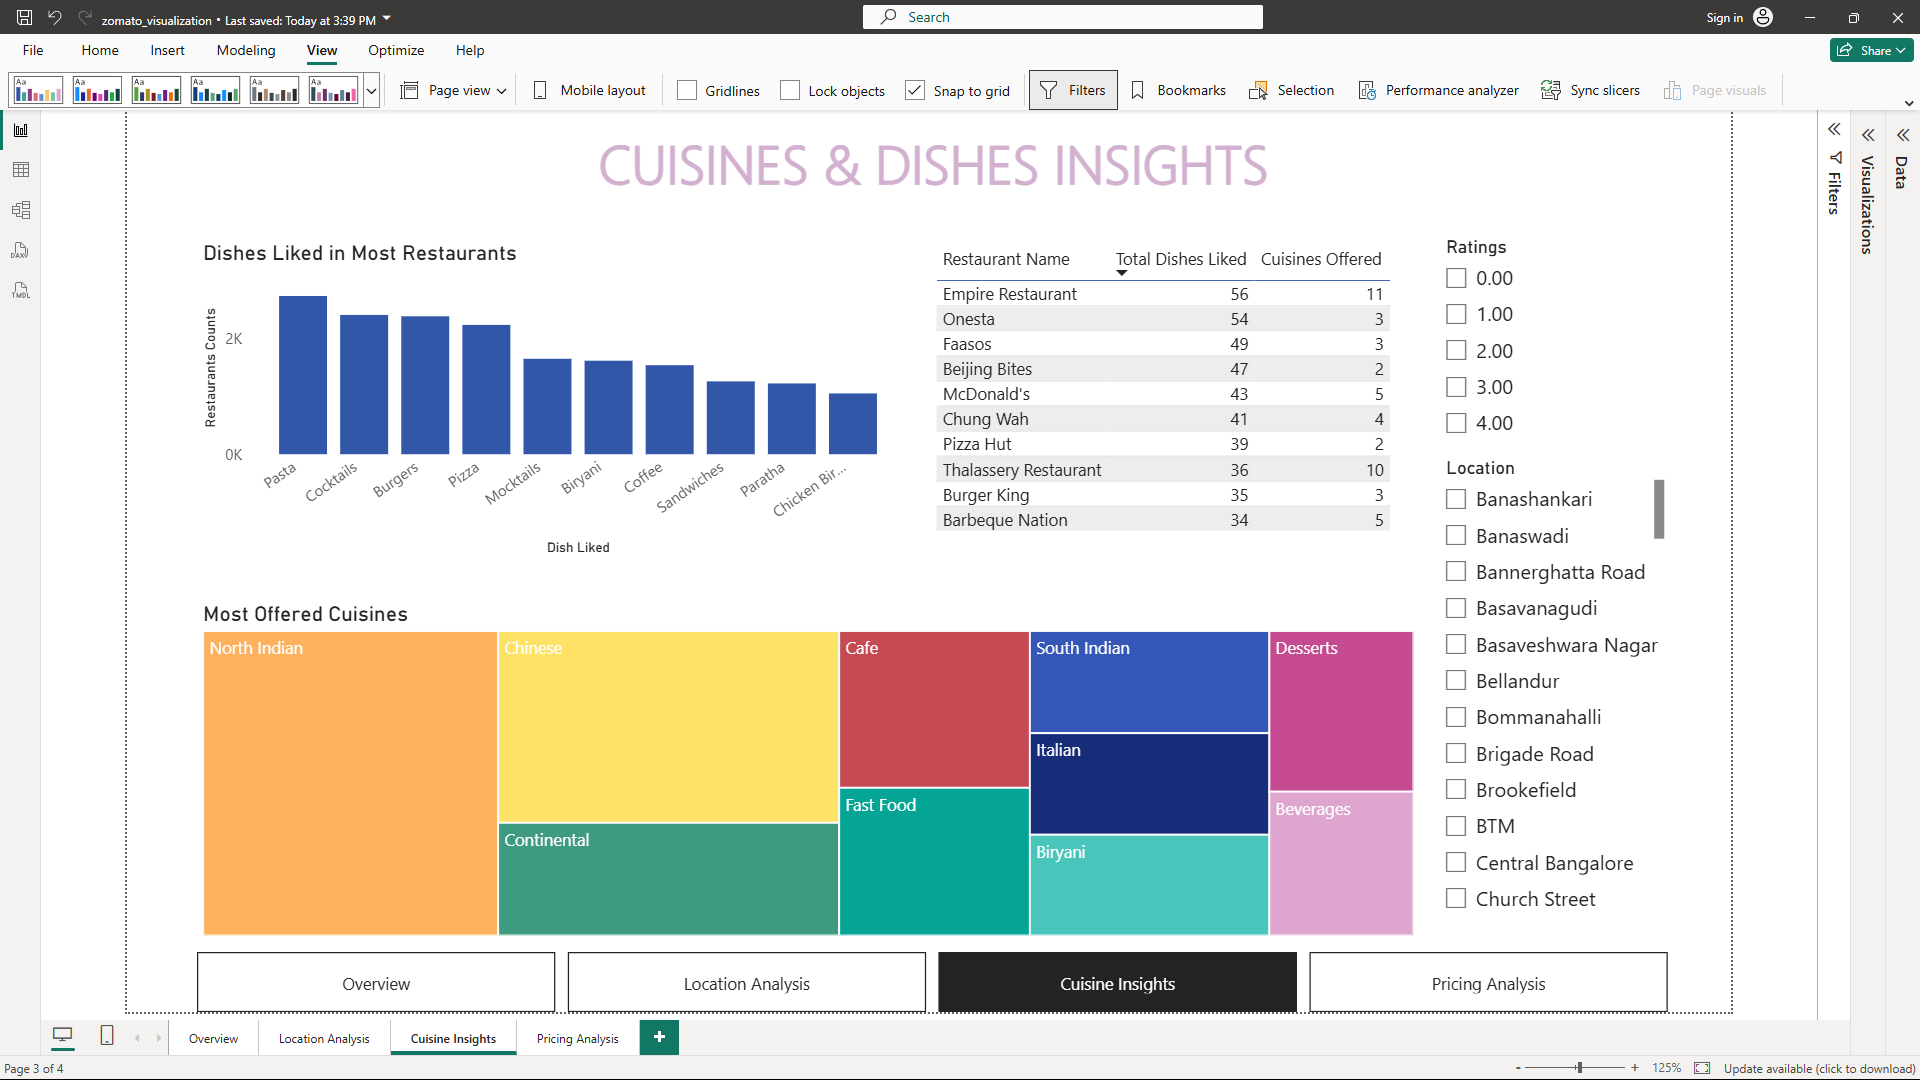

The page's visual inventory and layout, read from the dashboard file:
{"tool":"powerbi","page":{"name":"Cuisine Insights","canvas":[1280,720],"ordinal":1},"visuals":[{"type":"image","box":[0,0,1280,720],"z":0},{"type":"treemap","title":"Most Offered Cuisines","fields":{"Group":["cuisines_table.cuisines"],"Values":["CountNonNull(fact_table.Index)"]},"box":[16,304,600,400],"z":1000},{"type":"columnChart","title":"Dishes Liked in Most Restaurants","fields":{"Category":["dishes_table.dish_liked"],"Y":["CountNonNull(fact_table.Index)"]},"box":[24,16,472,272],"z":2000},{"type":"tableEx","fields":{"Values":["fact_table.name","fact_table.dish_liked","fact_table.cuisines"]},"box":[888,24,376,264],"z":3000},{"type":"lineChart","title":"Average Ratings by Votes","fields":{"Y":["Max(main_table2.ratings(out of 5))"],"Category":["main_table2.cost(2 People)"],"Y2":["Max(main_table2.votes)"]},"box":[512,16,360,272],"z":4000},{"type":"slicer","title":"Ratings","fields":{"Values":["main_table2.ratings(out of 5)"]},"box":[632,304,632,120],"z":6000},{"type":"clusteredBarChart","title":"Location Wise Average Food Cost","fields":{"Category":["main_table2.location"],"Y":["Avg(main_table2.cost(2 People))"]},"box":[632,432,632,272],"z":6001}]}

Visuals, with their boxes on the page's 1280x720 design canvas (x1, y1, x2, y2). These are canvas units, not pixel positions in the 1920x1080 screenshot, which may show the page scaled, cropped or inside an application window:
image: [0,0,1280,720]
"Most Offered Cuisines" treemap: [16,304,616,704]
"Dishes Liked in Most Restaurants" columnChart: [24,16,496,288]
tableEx - fact_table.name x fact_table.dish_liked: [888,24,1264,288]
"Average Ratings by Votes" lineChart: [512,16,872,288]
"Ratings" slicer: [632,304,1264,424]
"Location Wise Average Food Cost" clusteredBarChart: [632,432,1264,704]
